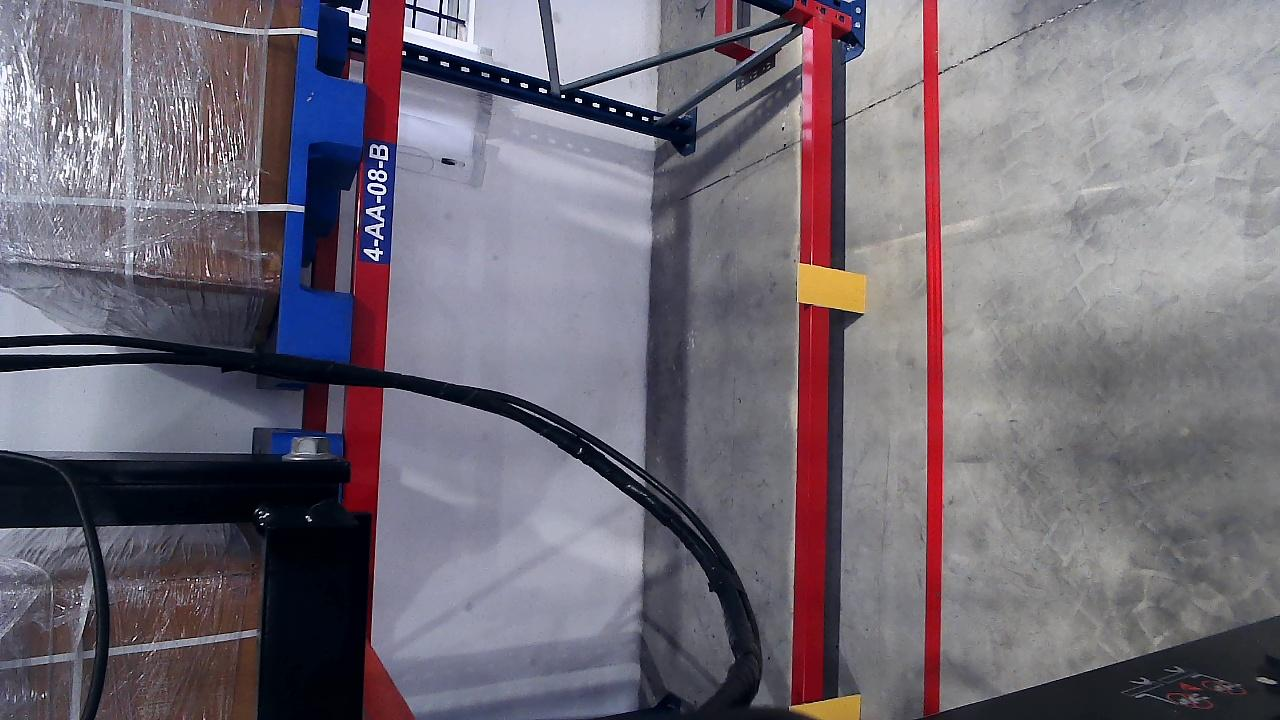h_rack: (791, 37, 837, 712), (349, 0, 408, 381)
orange_strip: (796, 263, 868, 312), (789, 695, 860, 719)
red_line: (920, 11, 947, 625)
small_pallet: (270, 2, 372, 357)
